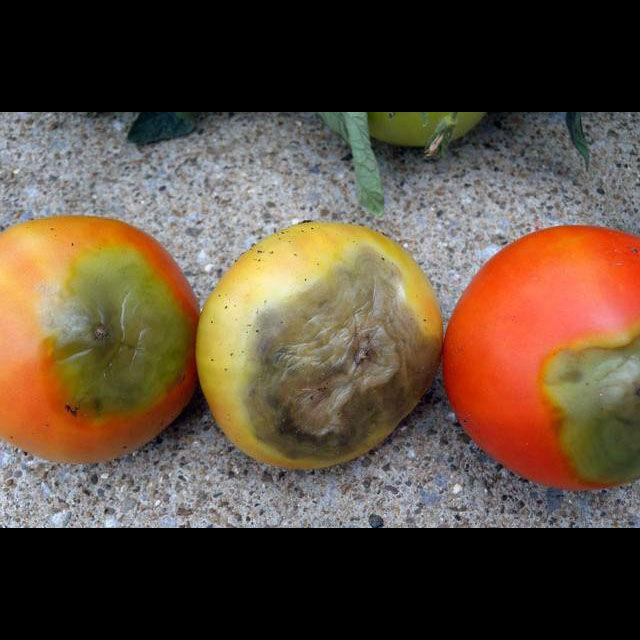tomato: (0, 190, 640, 528)
